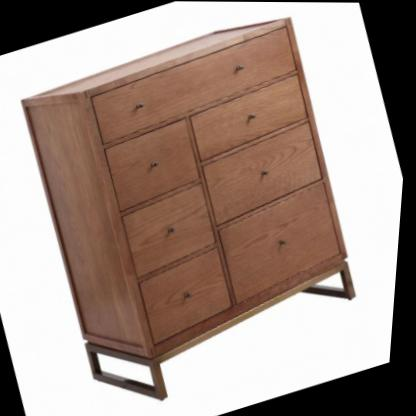Sideboard: (0, 4, 392, 416)
